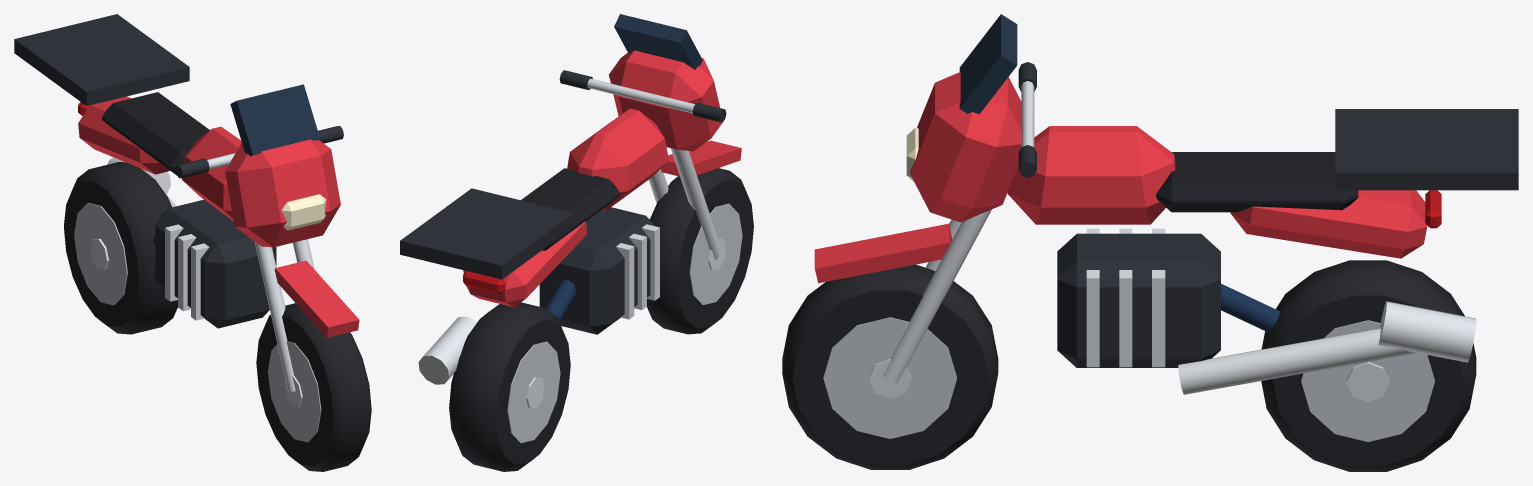
The model's file is motorbike.glb.
3 views of the same model, side by side, from view 1: azimuth 30°, elevation 25°; view 2: azimuth 150°, elevation 25°; view 3: azimuth 270°, elevation 25° (orthographic). The views are drawn at different scales.
Parts seen in each view (by area): view 1: body, fork, wheel_R, wheel_F; view 2: body, wheel_R, fork, wheel_F; view 3: body, wheel_F, wheel_R, fork.
Part boxes in pixels (x1,y1,x2,y2): body: (14,14,276,328); fork: (175,84,359,392); wheel_R: (64,162,177,334); wheel_F: (256,303,371,471); body: (400,108,668,384); wheel_R: (449,302,570,471); fork: (559,14,741,259); wheel_F: (647,168,753,334); body: (1007,109,1518,394); wheel_F: (782,264,998,469); wheel_R: (1261,260,1476,471); fork: (814,14,1036,383).
Bounding box in the file's own units: 0.72 × 1.44 × 2.25.
